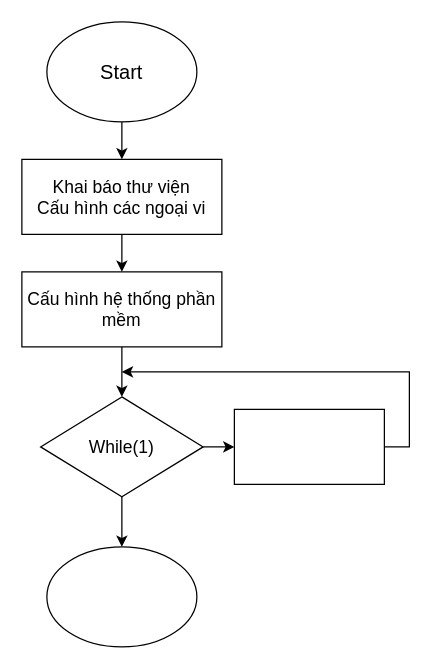
Some shapes in this 441 by 669 pixel diagram are drawn without their labels. The shapes that lost their labels are listed below. From the top down, each one's box as (x1, y1, x2, y2) in pixels, then its label:
(233, 408, 384, 484): Loop
(46, 546, 197, 647): Stop
